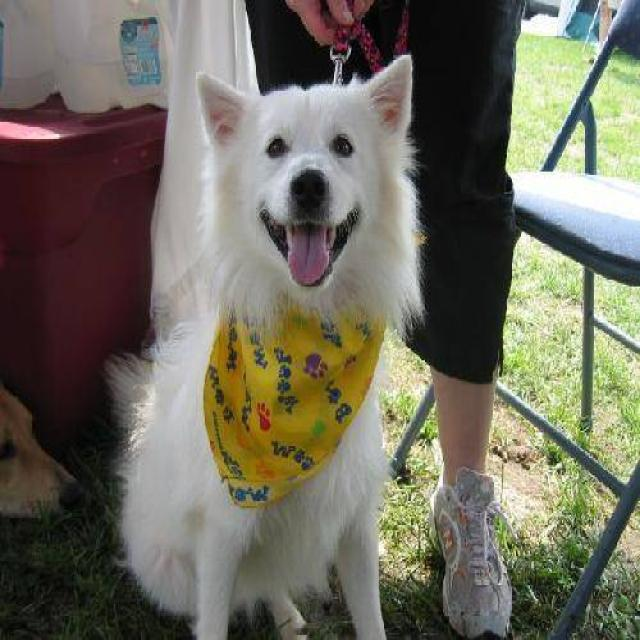dogs: (119, 58, 457, 640)
